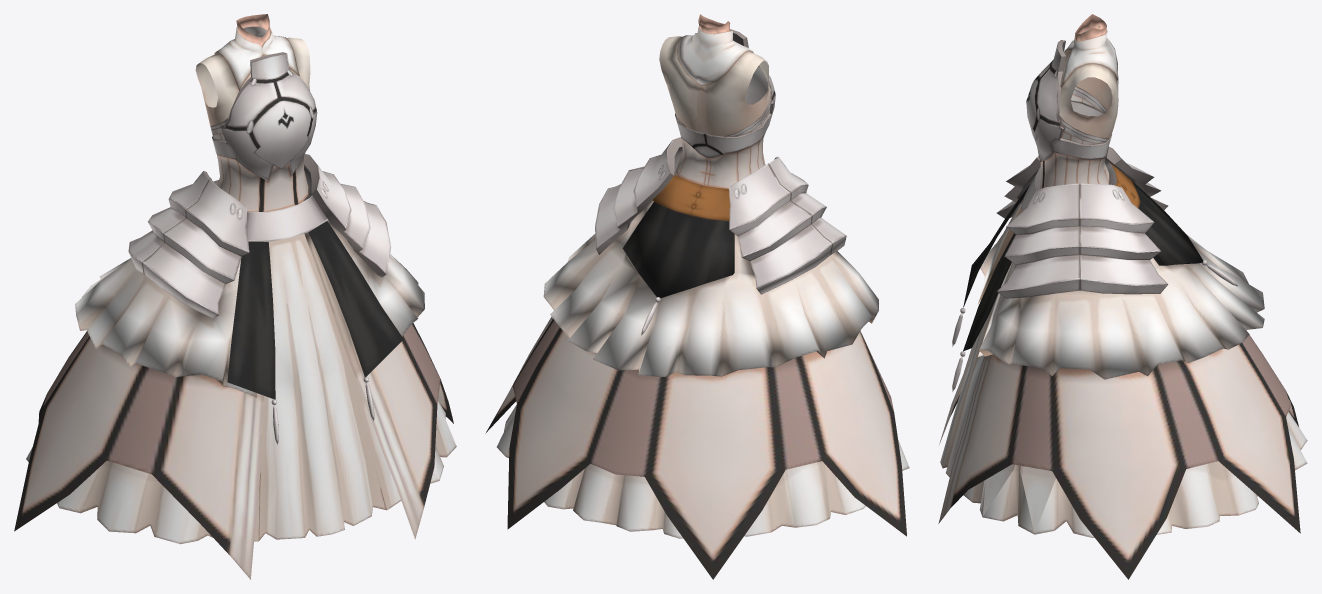
The model's file is Lily_Cuerpo.obj.
The picture shows the model from 3 angles, left to right: view 1: azimuth 30°, elevation 25°; view 2: azimuth 150°, elevation 25°; view 3: azimuth 270°, elevation 25°; orthographic projection. The views are drawn at different scales.
Parts seen in each view (by area): view 1: 2_Mesh.016; view 2: 2_Mesh.016; view 3: 2_Mesh.016.
Boxes of the visible parts, x1=… form: 2_Mesh.016: x1=14, y1=14, x2=456, y2=579; 2_Mesh.016: x1=485, y1=14, x2=909, y2=579; 2_Mesh.016: x1=938, y1=14, x2=1307, y2=579.
Size of the model in its own units: 0.9328 by 0.9798 by 0.7051.
